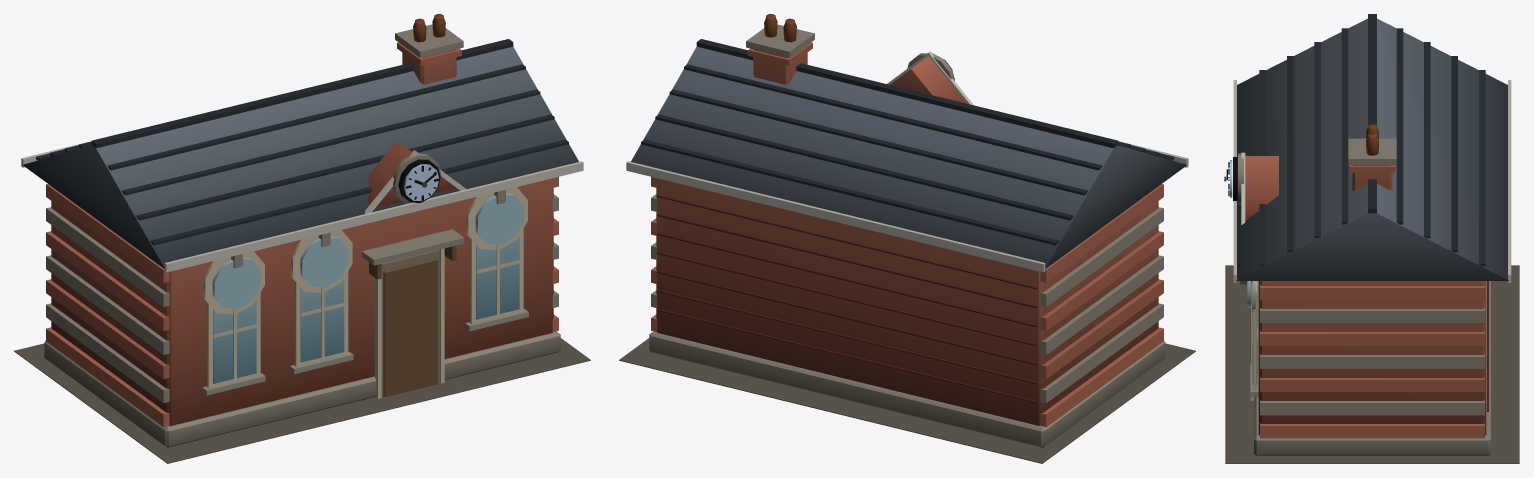
The model's file is station-building (1).glb.
3 renders of one model, left to right at view 1: azimuth 30°, elevation 25°; view 2: azimuth 150°, elevation 25°; view 3: azimuth 270°, elevation 25°, orthographic. The views are drawn at different scales.
Parts seen in each view (by area): view 1: station_building; view 2: station_building; view 3: station_building.
Part boxes in pixels (x1,y1,x2,y2): station_building: [14, 14, 590, 463]; station_building: [619, 14, 1195, 463]; station_building: [1224, 14, 1519, 463].
Size of the model in its own units: 7 by 4.85 by 4.42.
